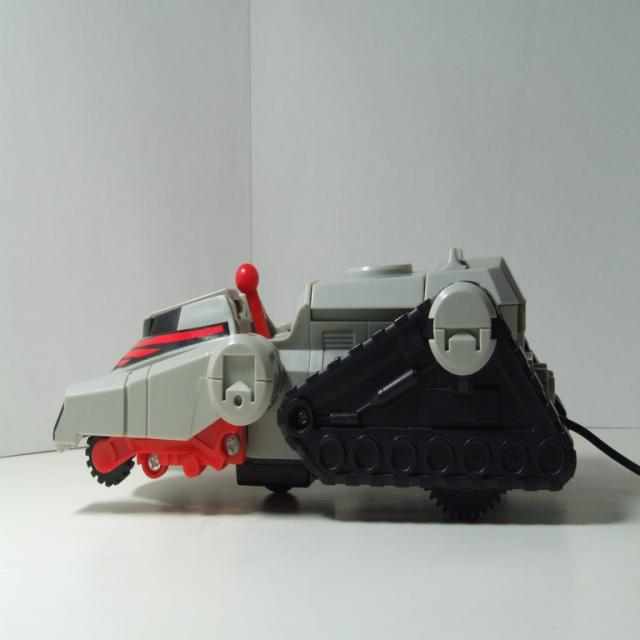tank: (51, 248, 578, 517)
